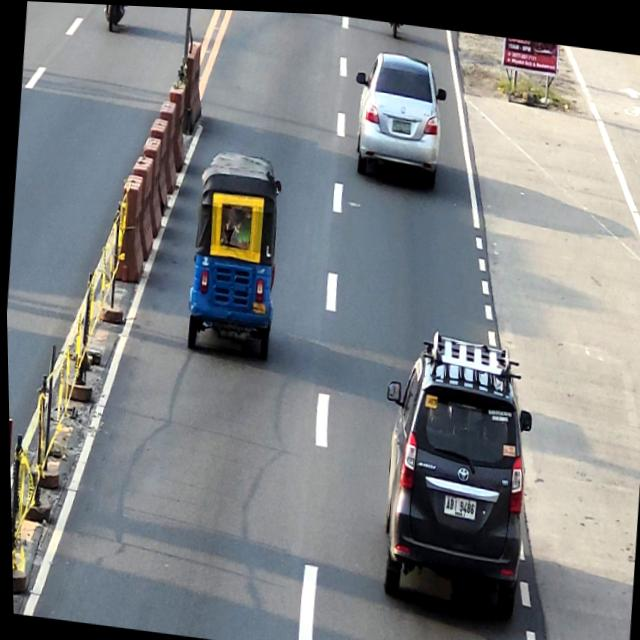Car: (365, 323, 540, 624), (346, 45, 452, 189)
E-bike: (180, 144, 285, 360)
License-Plate: (441, 491, 474, 516), (390, 116, 411, 131)
Motorcycle: (101, 4, 126, 29)
